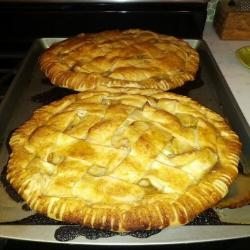apple_pie: (4, 89, 244, 237), (40, 27, 206, 98)
